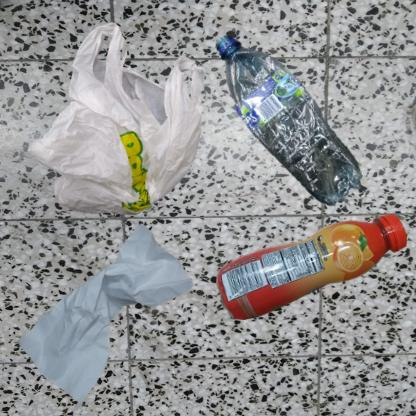bolsa: (10, 10, 268, 290)
botella: (213, 10, 386, 252), (213, 213, 416, 323)
papel: (10, 213, 200, 416)
